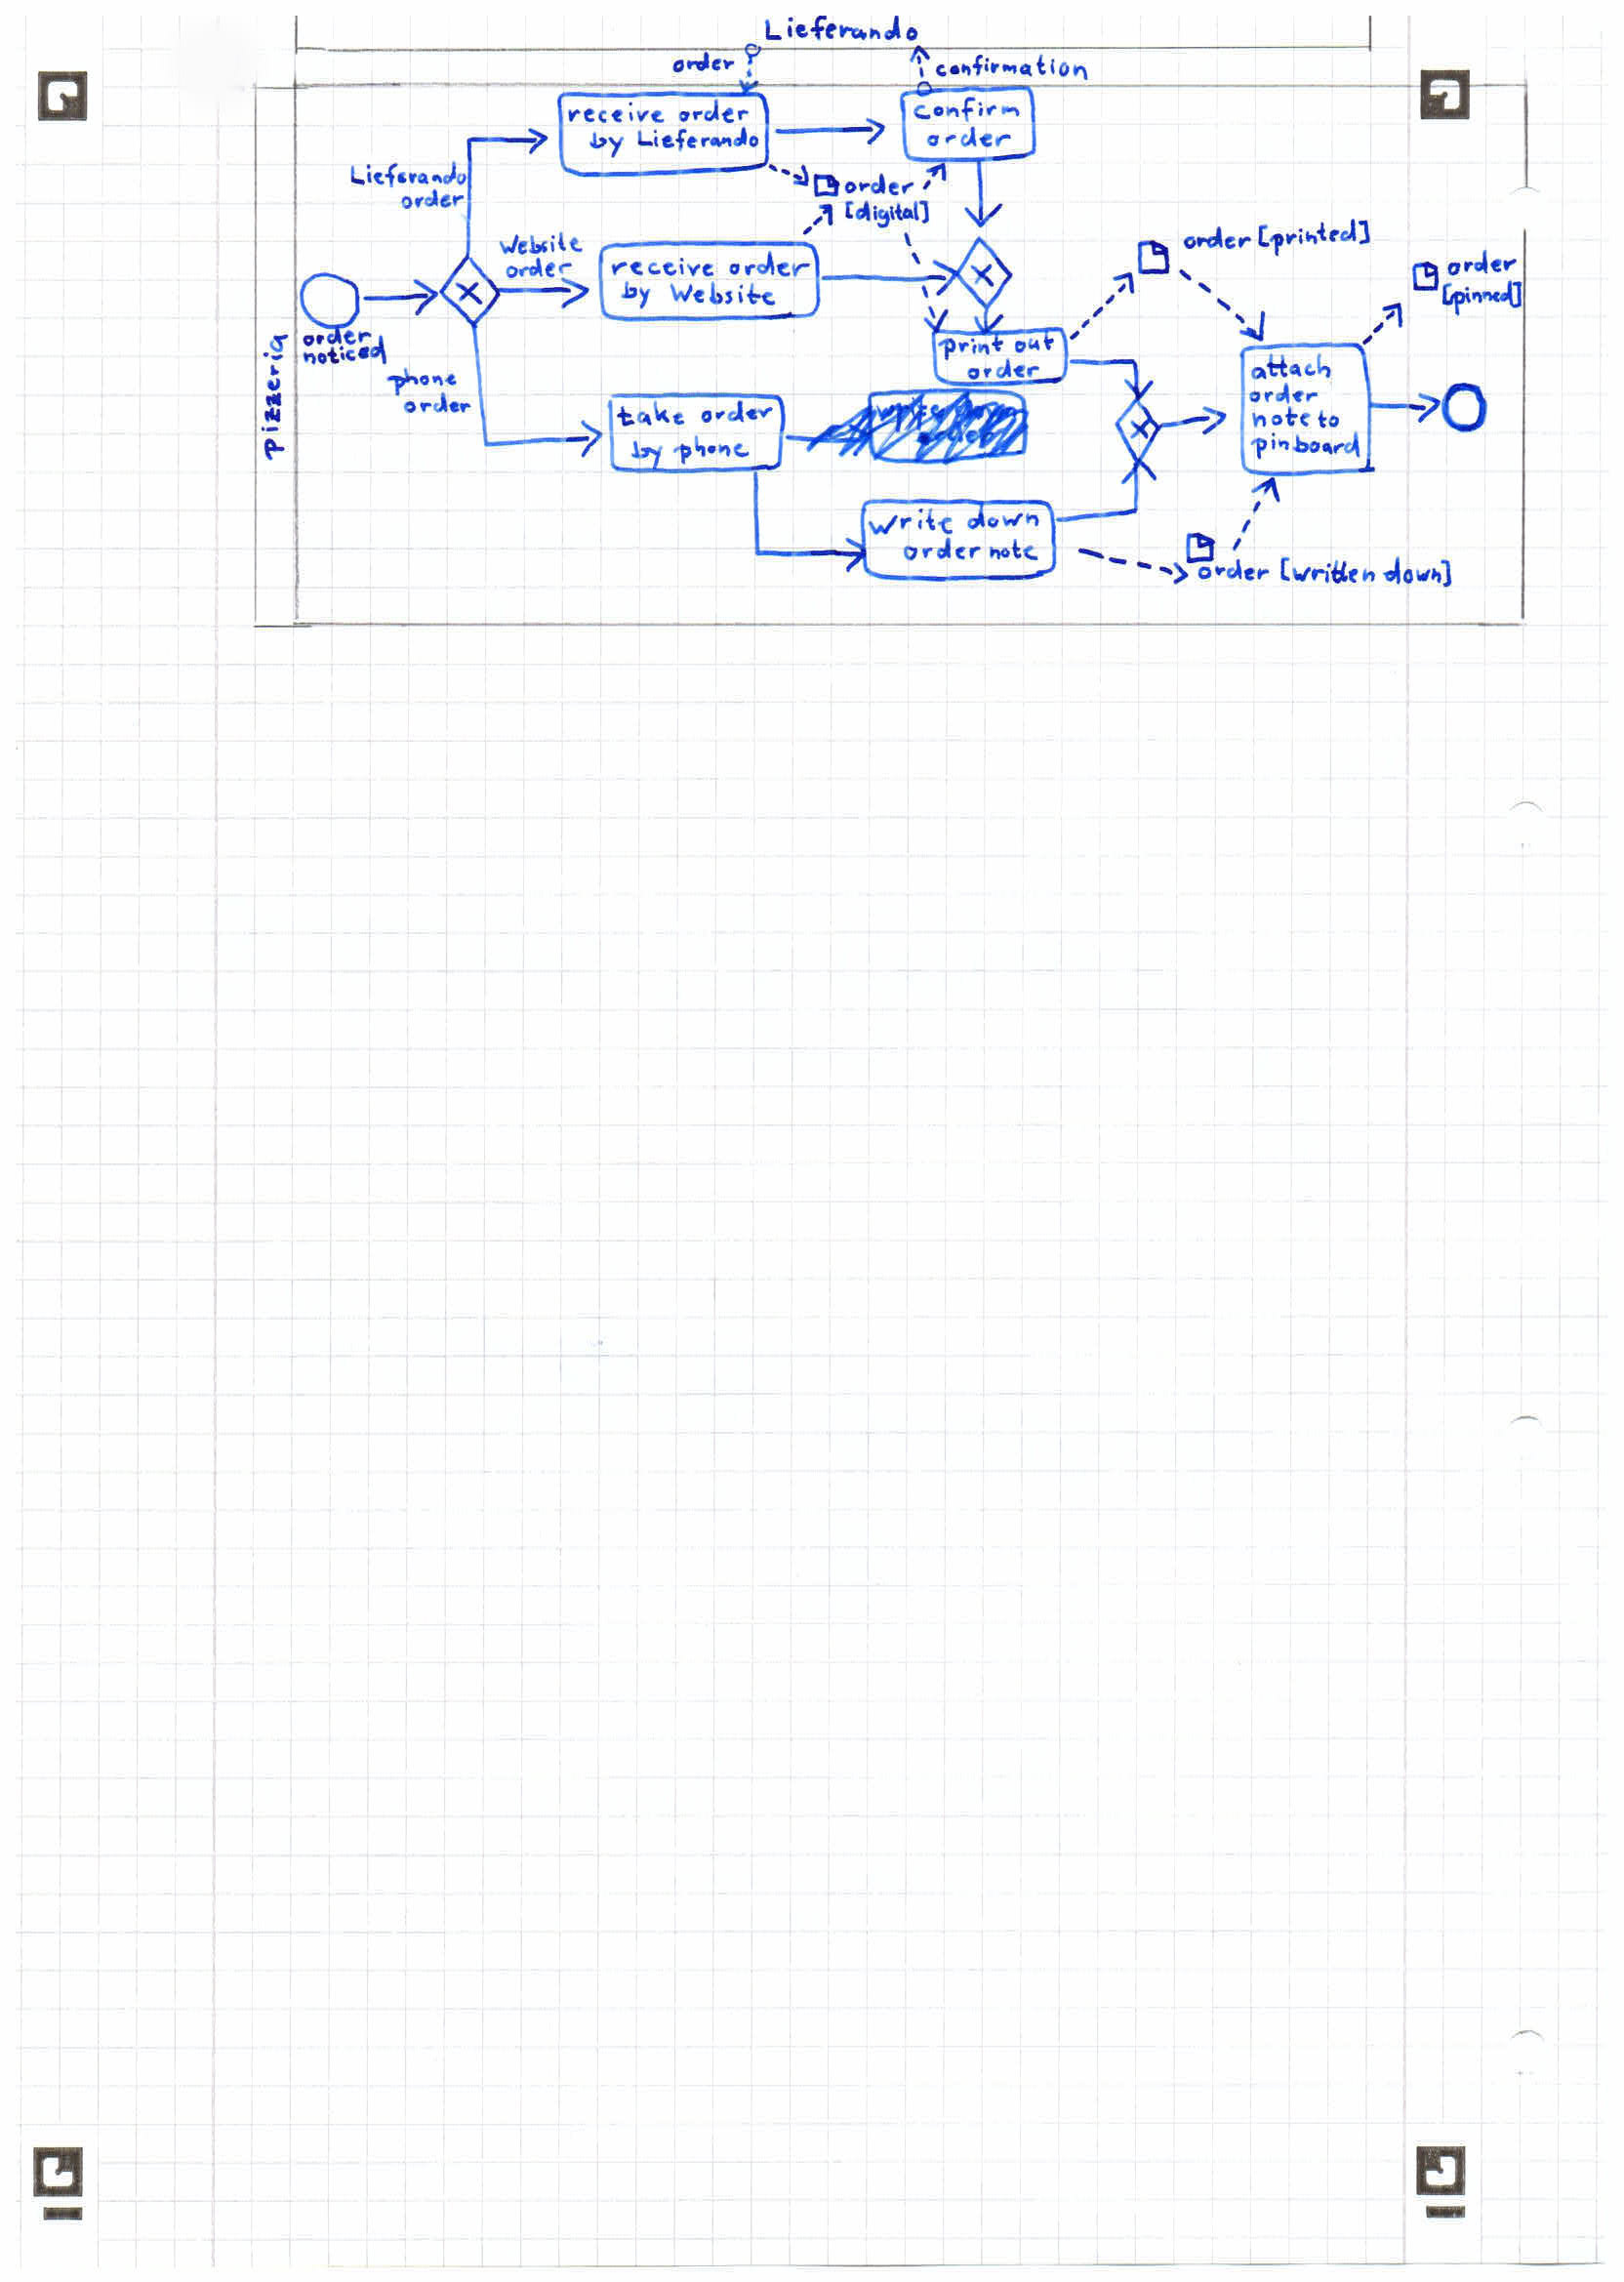Lieferando: (759, 14, 923, 47), (343, 160, 471, 192), (631, 123, 763, 151)
Website: (664, 280, 780, 308), (496, 232, 587, 258)
[digital]: (840, 197, 935, 227)
[pinned]: (1438, 278, 1524, 313)
[printed]: (1257, 216, 1374, 258)
[written: (1278, 556, 1380, 591)
attach: (1246, 355, 1336, 383)
by: (626, 436, 670, 466), (587, 128, 629, 156), (617, 280, 656, 309)
confirm: (912, 95, 1026, 127)
confirmation: (933, 53, 1097, 81)
down: (963, 506, 1042, 536)
down]: (1381, 554, 1454, 591)
note: (1250, 408, 1316, 432), (984, 538, 1040, 566)
noticed: (299, 341, 390, 367)
order: (1441, 248, 1520, 281), (726, 253, 812, 283), (923, 121, 1014, 149), (694, 399, 775, 429), (900, 538, 984, 566), (1195, 557, 1274, 587), (1179, 223, 1257, 253), (673, 100, 754, 128), (670, 47, 740, 79), (399, 390, 475, 417), (963, 357, 1044, 382), (842, 174, 919, 199), (503, 255, 576, 280), (1246, 382, 1323, 404), (397, 186, 468, 211), (299, 325, 374, 348)
out: (1009, 332, 1058, 359)
phone: (671, 432, 750, 466), (387, 367, 462, 396)
pinboard: (1251, 429, 1366, 461)
pizzeria: (260, 332, 290, 459)
print: (937, 334, 1011, 360)
receive: (562, 100, 670, 127), (608, 257, 719, 281)
take: (613, 399, 692, 427)
to: (1313, 408, 1345, 434)
write: (866, 506, 960, 538)
